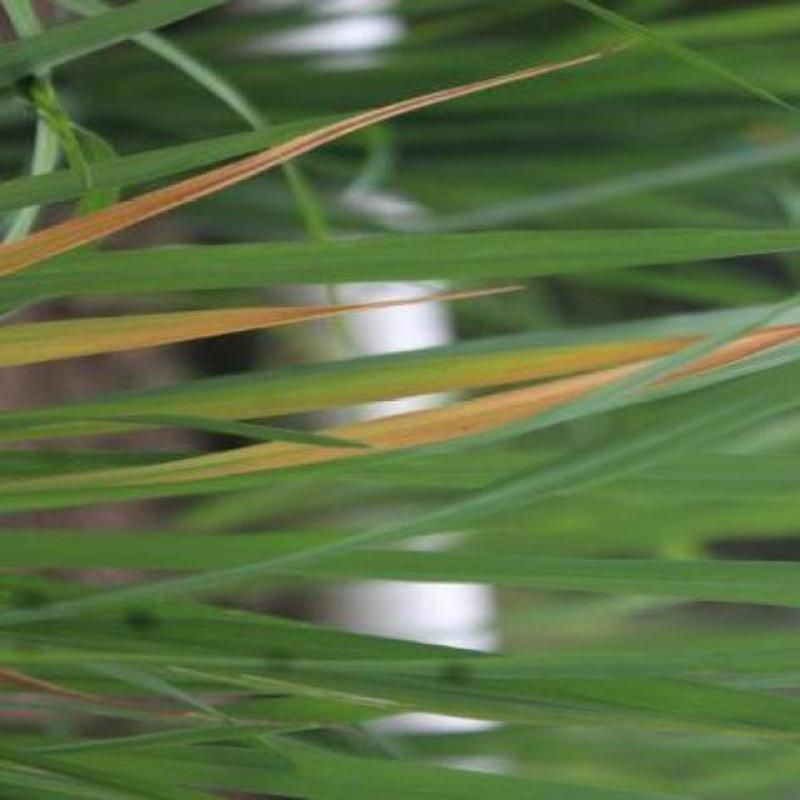Rice Tungro: (152, 83, 472, 245), (101, 268, 529, 342), (349, 379, 575, 451)
